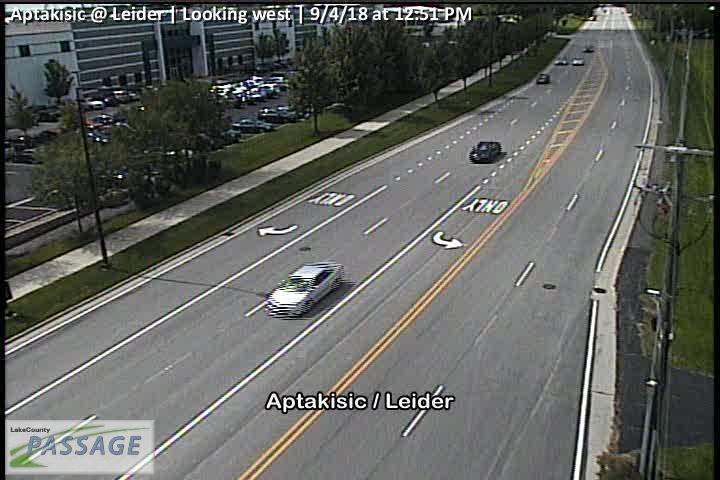Sedan: (266, 262, 345, 318), (469, 141, 501, 164), (230, 118, 272, 133), (259, 108, 296, 124), (536, 74, 550, 84), (572, 56, 585, 65), (554, 56, 567, 64), (584, 43, 594, 52)
